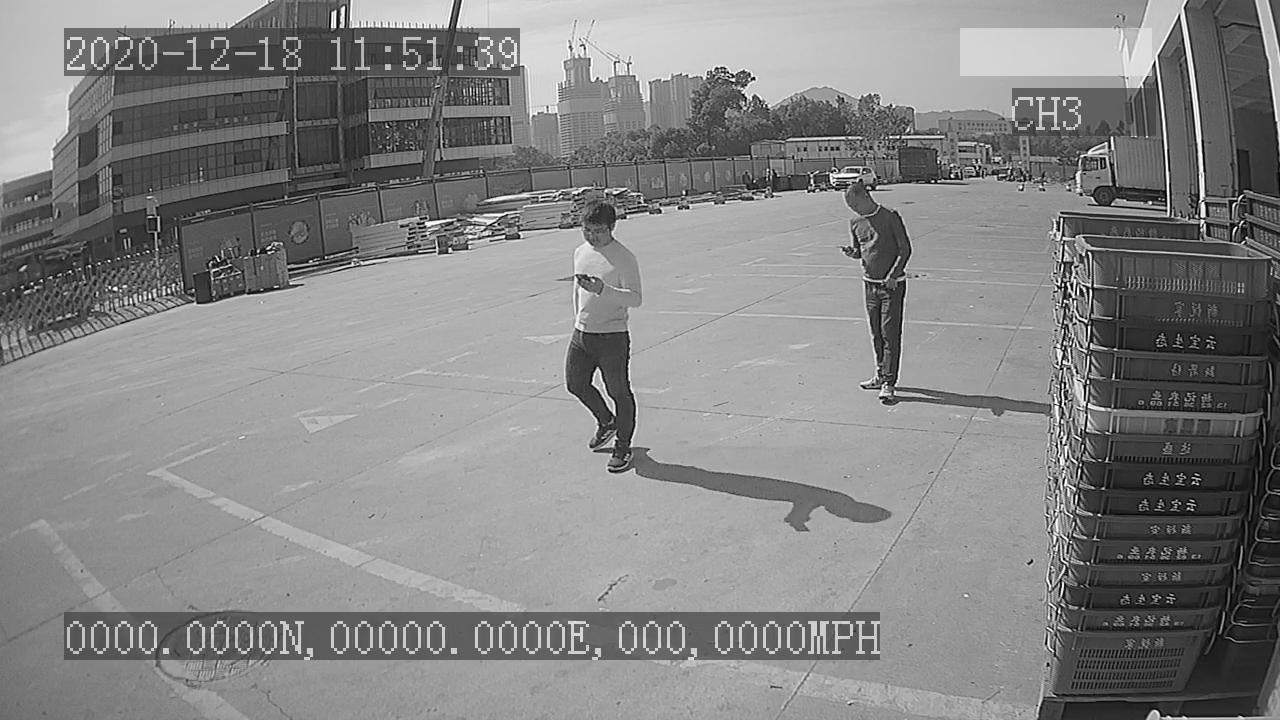person: (547, 192, 643, 479), (831, 179, 915, 410)
